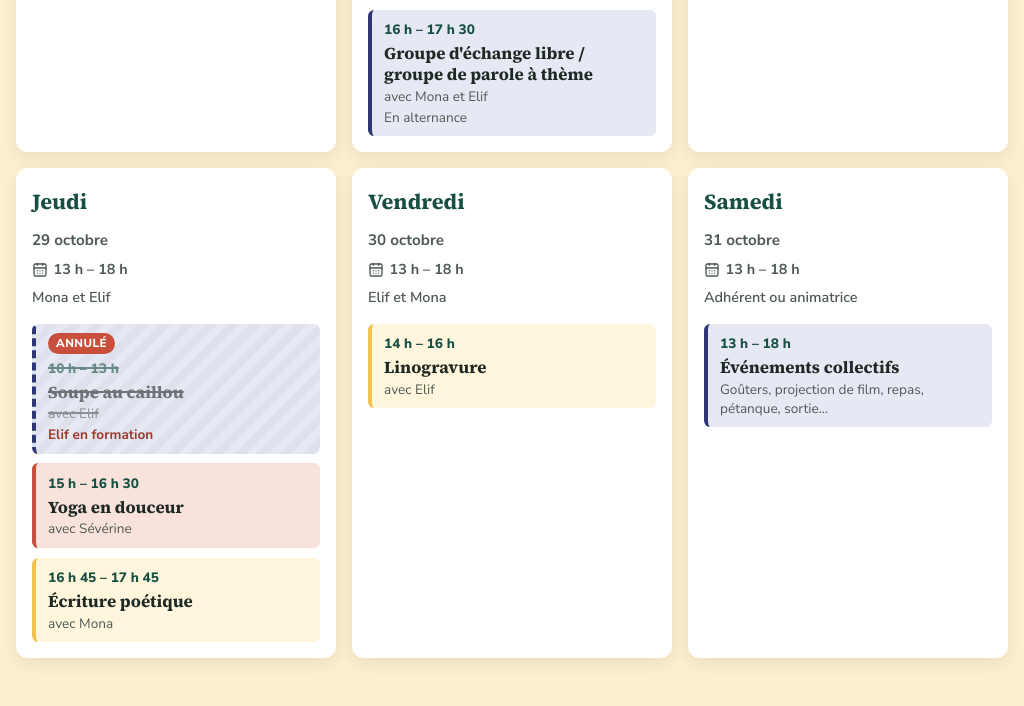
it: the window gives the recurrence and the cancellation
(page scrolled)
Click the button "Soupe au caillou". click: (178, 389)
box: 36,324 -> 320,454
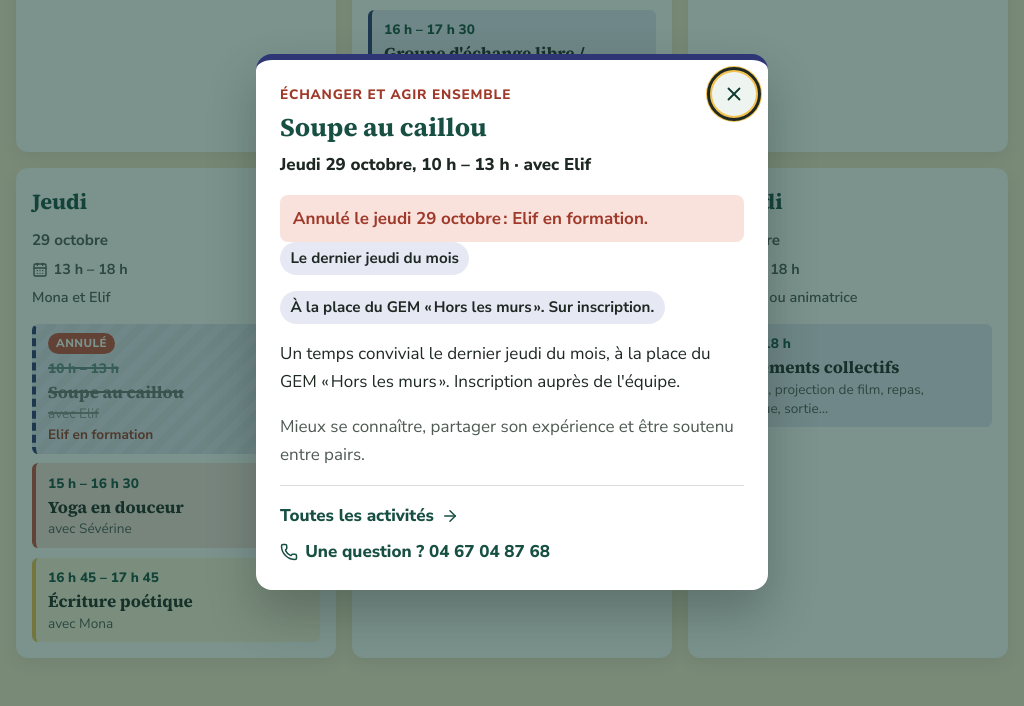
Expected: the dialog "Soupe au caillou" shows "Le dernier jeudi du mois", 290,248 -> 459,268
Expected: the dialog "Soupe au caillou" shows "Annulé le jeudi 29 octobre : Elif en formation.", 293,207 -> 648,230
